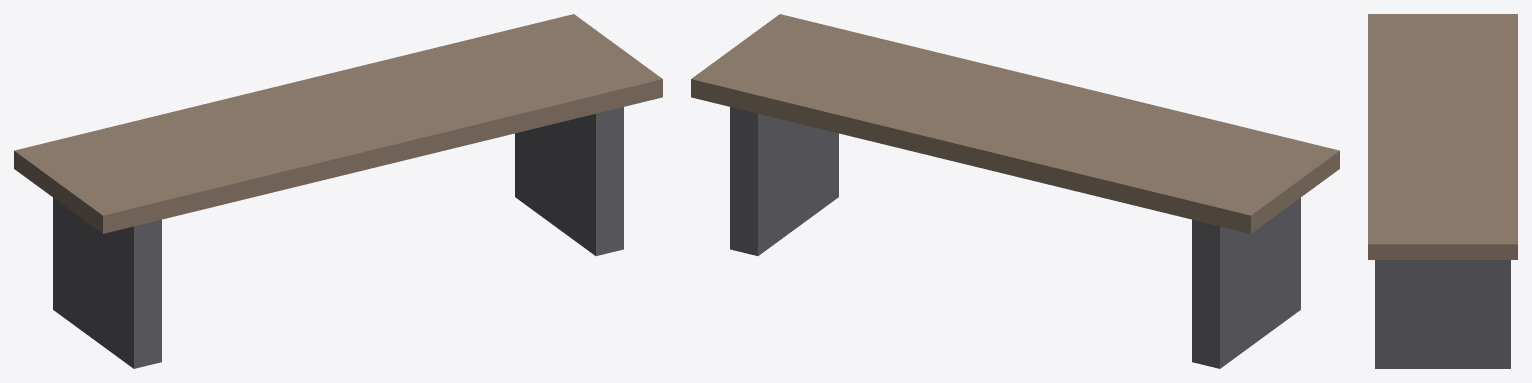
The model's file is bench.gltf.
3 views of the same model, side by side, from view 1: azimuth 30°, elevation 25°; view 2: azimuth 150°, elevation 25°; view 3: azimuth 270°, elevation 25° (orthographic). The views are drawn at different scales.
Parts seen in each view (by area): view 1: bench; view 2: bench; view 3: bench.
Boxes of the visible parts, x1,y1,x2,y2 form: bench: (14, 14, 662, 368); bench: (691, 14, 1339, 368); bench: (1368, 14, 1517, 368).
Size of the model in its own units: 1.6 by 0.45 by 0.44.
